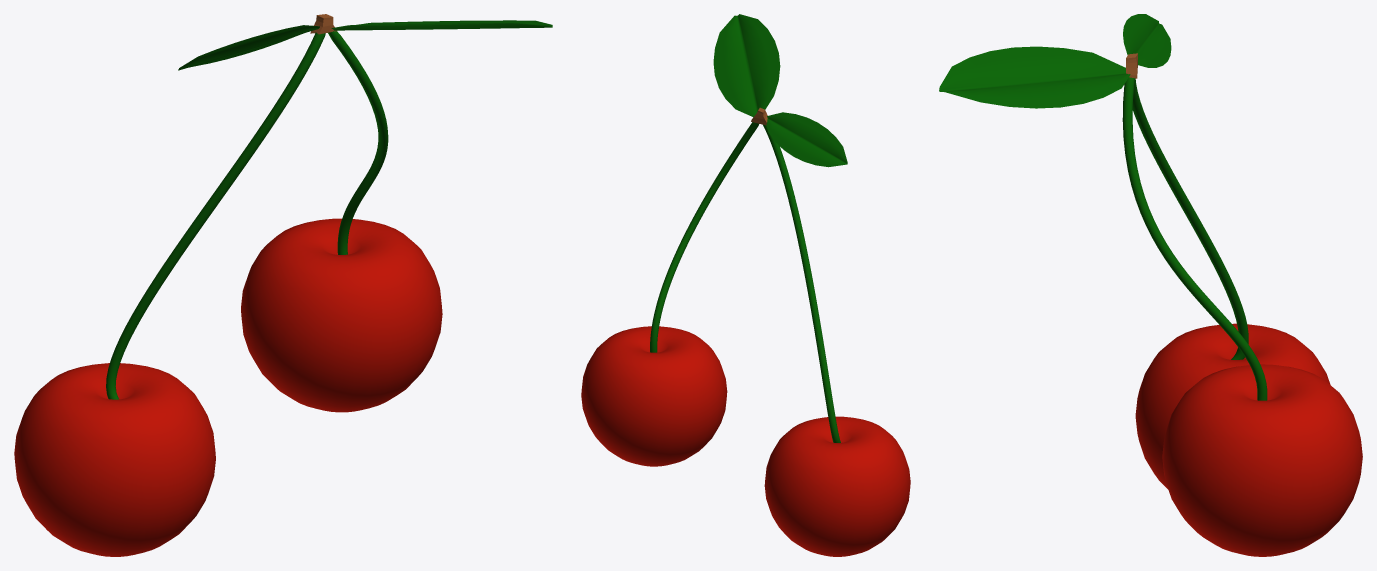
Rendered from cherry.glb.
The picture shows the model from 3 angles, left to right: view 1: azimuth 30°, elevation 25°; view 2: azimuth 150°, elevation 25°; view 3: azimuth 270°, elevation 25°; orthographic projection. The views are drawn at different scales.
Parts seen in each view (by area): view 1: Sphere, Sphere.001, BézierCurve, Plane.001, Plane.002; view 2: Sphere.001, Sphere, Plane.001, BézierCurve, Plane.002; view 3: Sphere.001, Sphere, Plane.001, BézierCurve, Plane.002.
Part boxes in pixels (x1,y1,x2,y2): Sphere: (14,363,215,556); Sphere.001: (241,218,442,412); BézierCurve: (106,31,388,399); Plane.001: (331,20,552,30); Plane.002: (178,25,319,70); Sphere.001: (581,326,727,466); Sphere: (764,416,910,556); Plane.001: (713,14,780,117); BézierCurve: (650,122,840,442); Plane.002: (766,112,847,167); Sphere.001: (1162,364,1362,556); Sphere: (1135,323,1330,489); Plane.001: (939,46,1130,108); BézierCurve: (1122,77,1267,400); Plane.002: (1123,14,1171,67).
Bounding box in the file's own units: 4.74 × 6.19 × 4.22.
